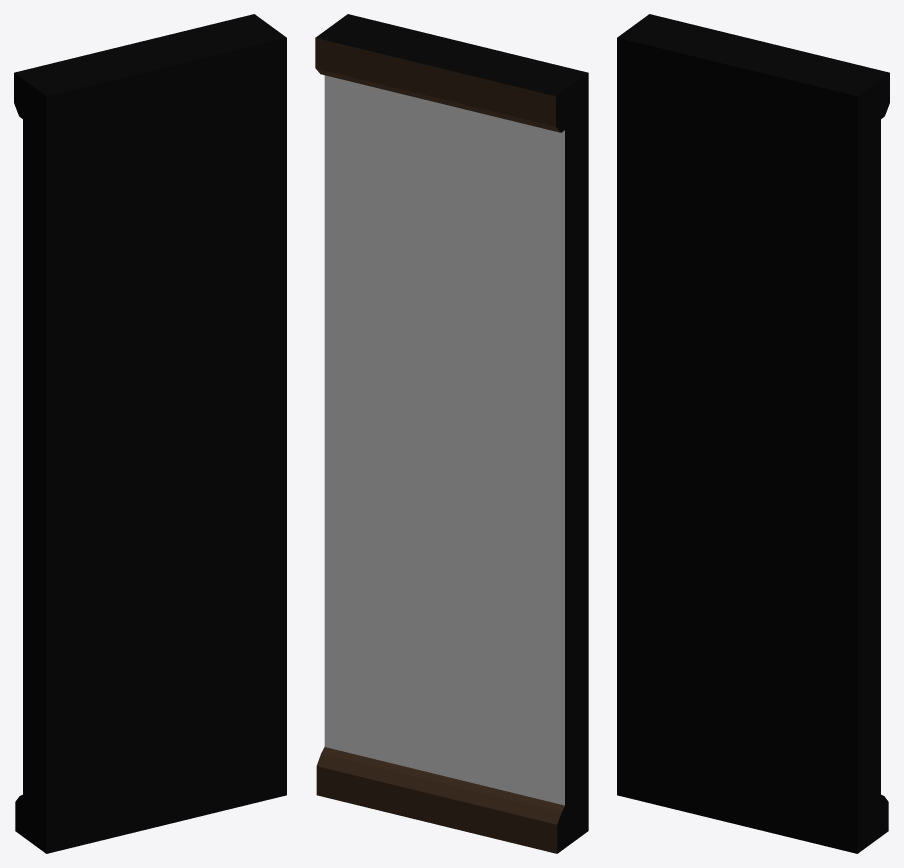
Rendered from Wall_02_half.fbx.
3 renders of one model, left to right at view 1: azimuth 30°, elevation 25°; view 2: azimuth 150°, elevation 25°; view 3: azimuth 330°, elevation 25°, orthographic.
Parts seen in each view (by area): view 1: Cube.148; view 2: Cube.148; view 3: Cube.148.
Part boxes in pixels (x1,y1,x2,y2): Cube.148: [14, 14, 286, 853]; Cube.148: [315, 14, 588, 853]; Cube.148: [617, 14, 889, 853].
Bounding box in the file's own units: 0.2334 × 1 × 3.01.
